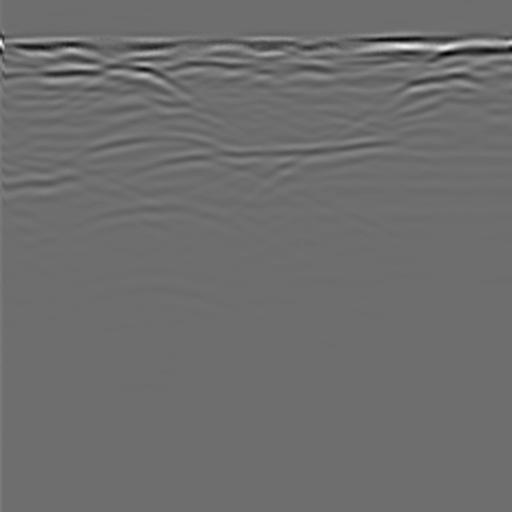hyperbola: (46, 119, 275, 256)
